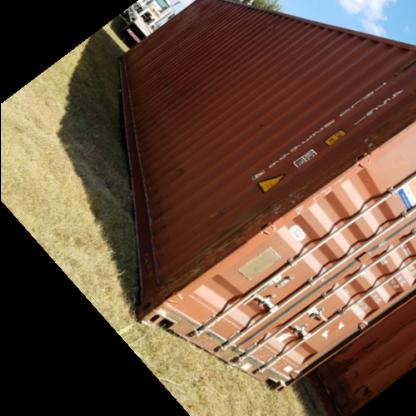Damage: (166, 217, 264, 293), (356, 74, 408, 162), (144, 99, 184, 187)
